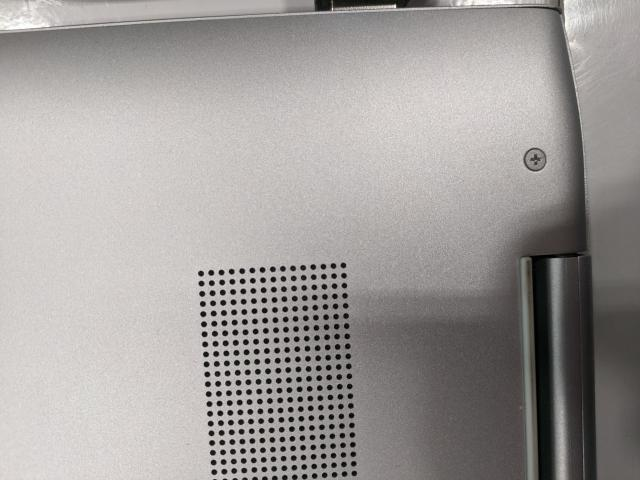CRS: (524, 146, 547, 173)
